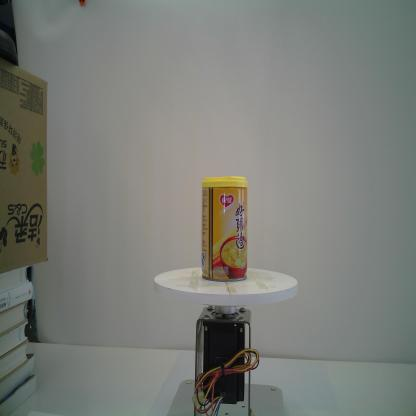Canned Food: (200, 176, 249, 283)
